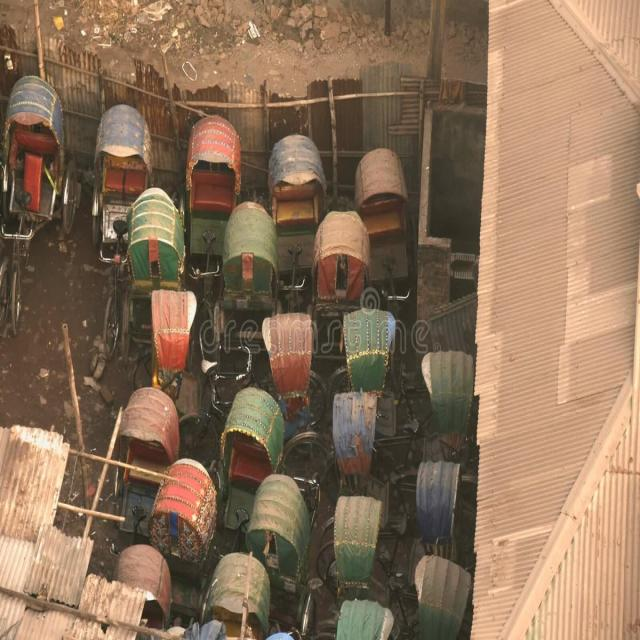Rickshaw: (73, 286, 278, 434), (348, 133, 439, 418), (1, 51, 85, 344), (270, 478, 435, 610), (95, 370, 186, 594), (81, 88, 151, 378), (173, 98, 249, 363), (216, 294, 340, 447), (146, 406, 237, 605), (211, 166, 293, 386), (347, 459, 505, 570), (121, 162, 200, 383), (362, 338, 488, 463), (263, 122, 333, 343), (211, 366, 296, 547), (236, 424, 315, 608), (306, 165, 374, 373), (357, 544, 499, 640), (96, 510, 195, 640), (190, 516, 280, 640), (288, 574, 398, 640)
